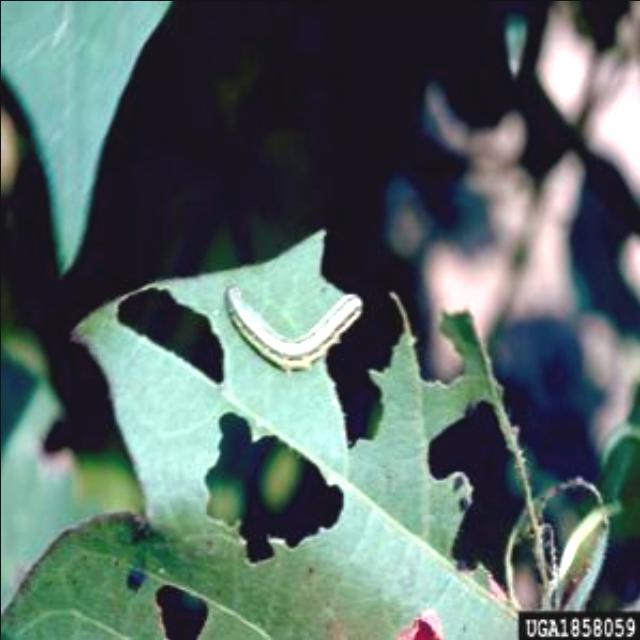Beet armyworm: (214, 258, 366, 379)
